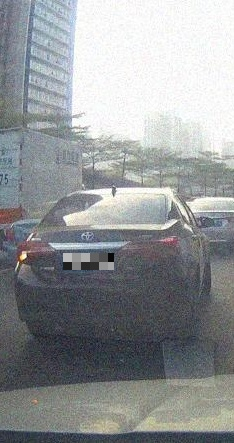L_light: (17, 241, 61, 267)
R_light: (129, 238, 180, 264)
T_light: (81, 219, 104, 225)
day-left: (13, 187, 184, 341)
plate_1: (63, 253, 114, 270)
